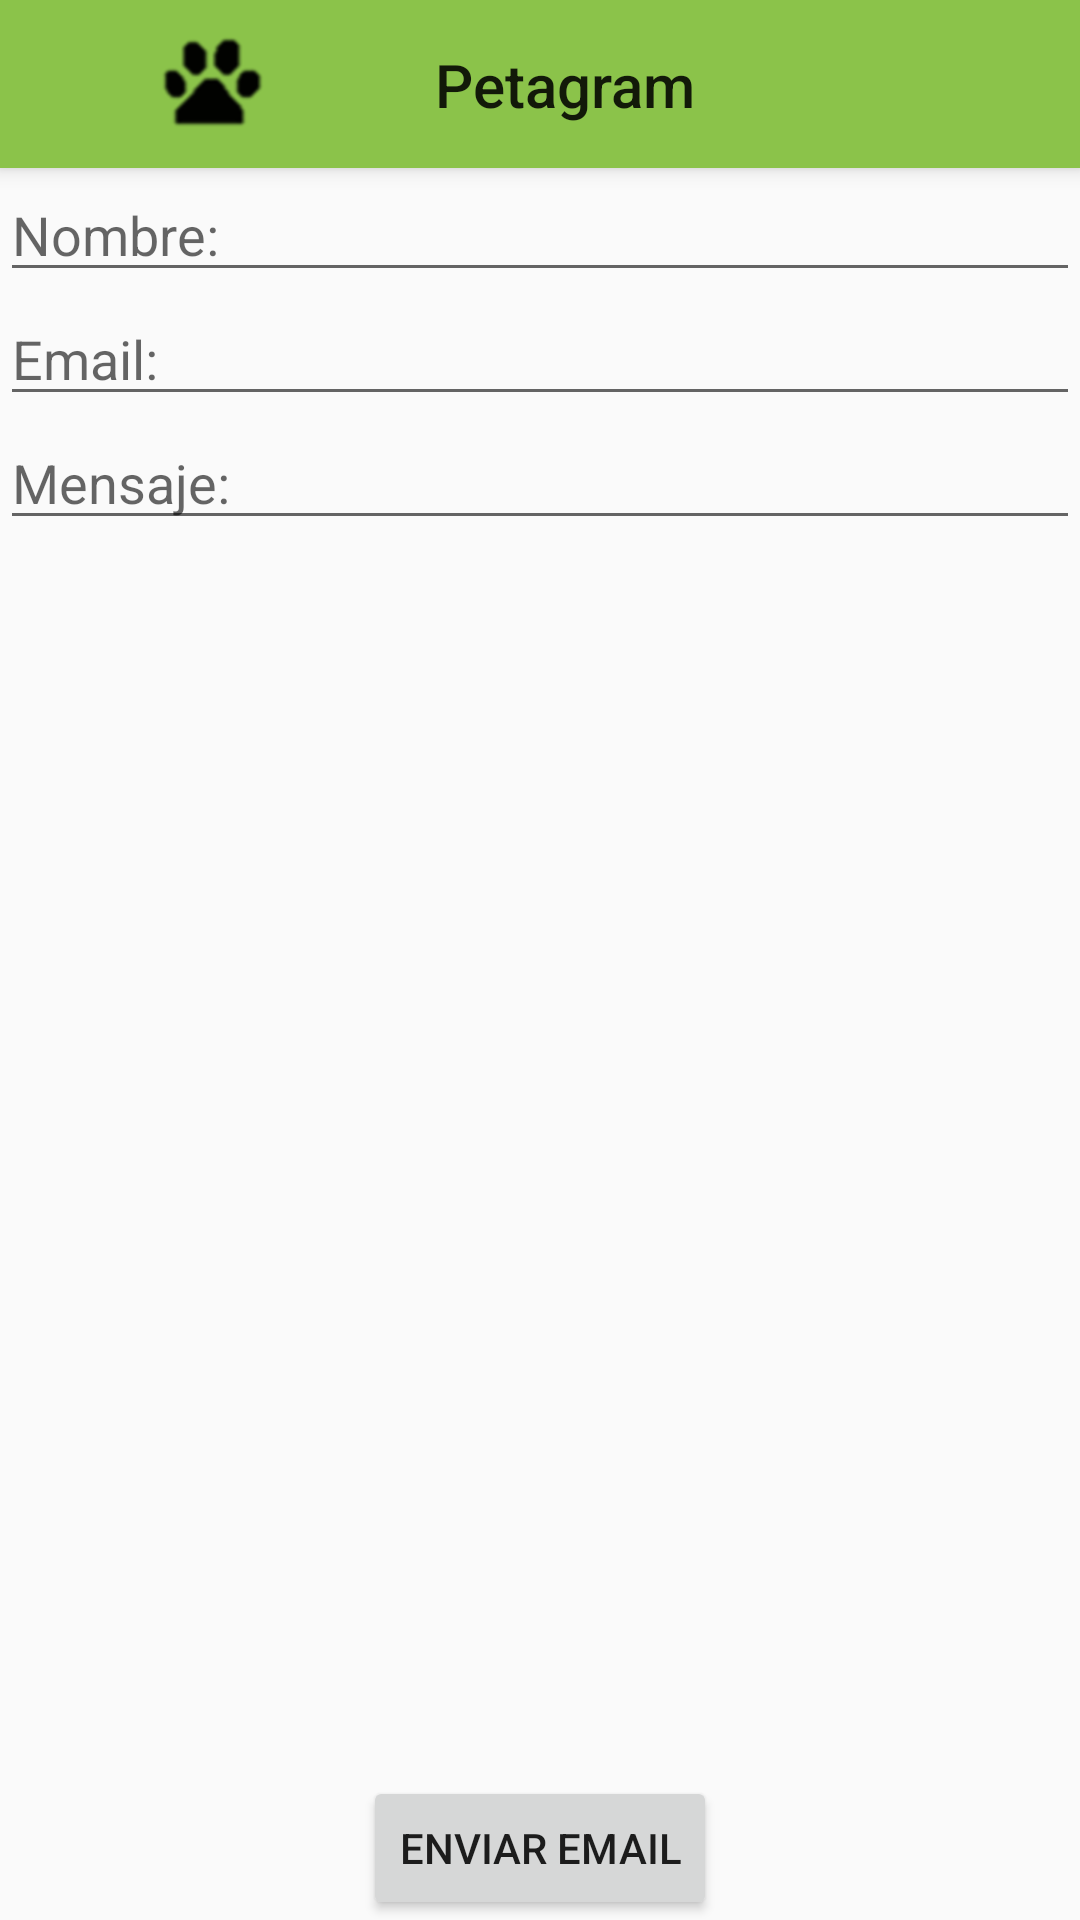

Locate icon controls on the screen. Image size 1080px×1920px, boxes as bbox(x1, y1, x2, y2).
huellaperro: bbox(163, 38, 262, 126)
